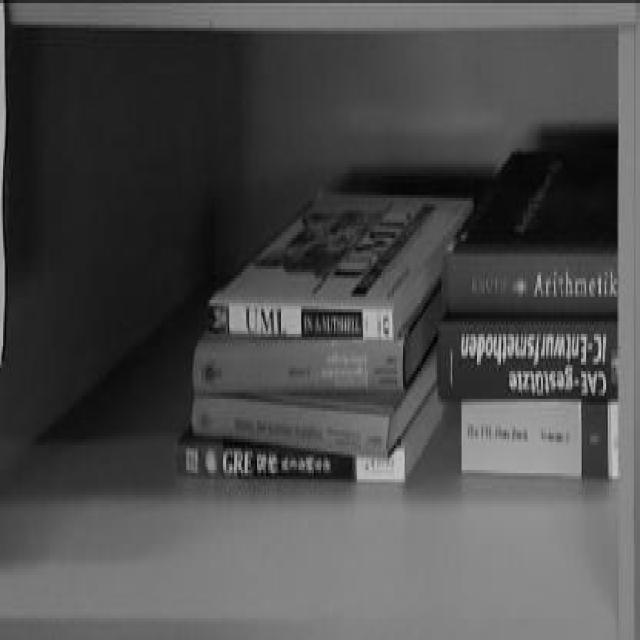book: (211, 148, 467, 330), (442, 316, 624, 409), (194, 330, 405, 397), (453, 402, 621, 482), (438, 248, 618, 321), (184, 397, 392, 457), (176, 440, 405, 484)
